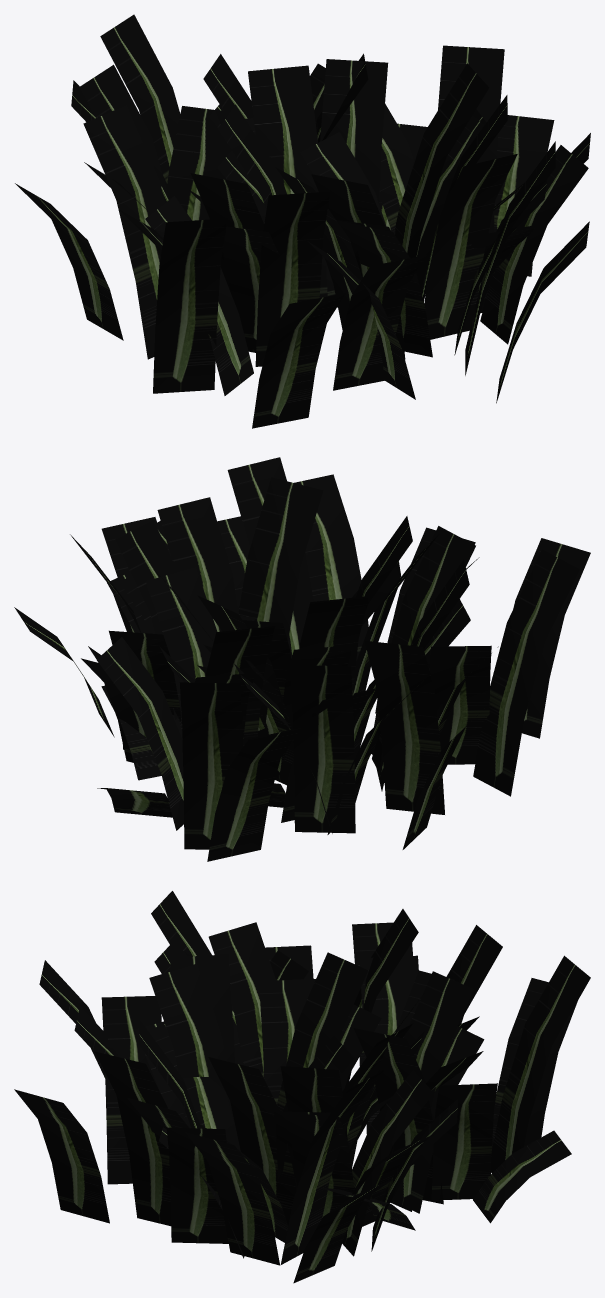
Rendered from SM_Grass_09.fbx.
3 views of the same model, one above another, from view 1: azimuth 30°, elevation 25°; view 2: azimuth 150°, elevation 25°; view 3: azimuth 270°, elevation 25° (orthographic). The views are drawn at different scales.
Parts seen in each view (by area): view 1: SM_Grass_09; view 2: SM_Grass_09; view 3: SM_Grass_09.
Boxes of the visible parts, bbox=[...] form: SM_Grass_09: bbox=[15, 14, 590, 428]; SM_Grass_09: bbox=[14, 457, 590, 861]; SM_Grass_09: bbox=[14, 891, 590, 1283].
Bounding box in the file's own units: 7.42 × 7.67 × 2.91.
Materials: 1 (1 with a texture image).
